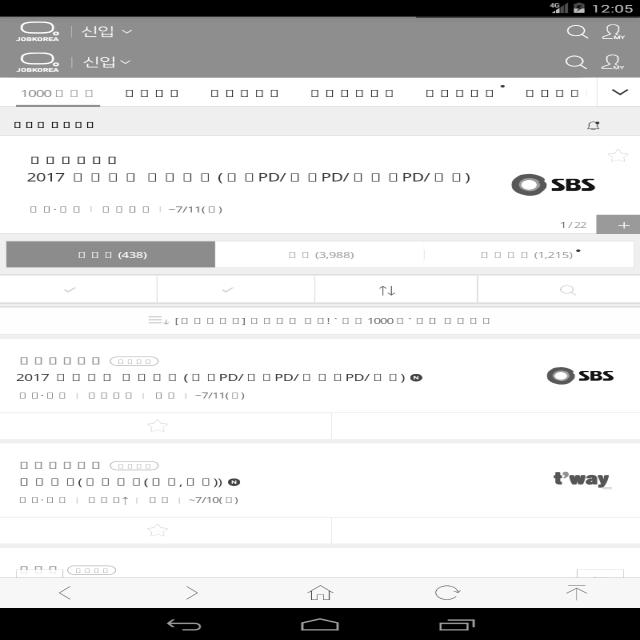ImageButton: (426, 579, 466, 603), (300, 582, 342, 604), (556, 582, 597, 604), (174, 579, 207, 603), (560, 20, 595, 41), (597, 51, 628, 73), (51, 583, 82, 603), (370, 282, 405, 298), (548, 282, 583, 296)
ImageView: (506, 171, 546, 197)
TextView: (21, 154, 481, 190), (553, 468, 609, 490), (77, 20, 119, 40), (534, 247, 588, 262), (81, 51, 124, 69), (578, 367, 618, 383), (312, 247, 361, 260)
